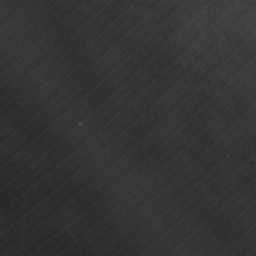Target: (76, 119, 82, 128)
